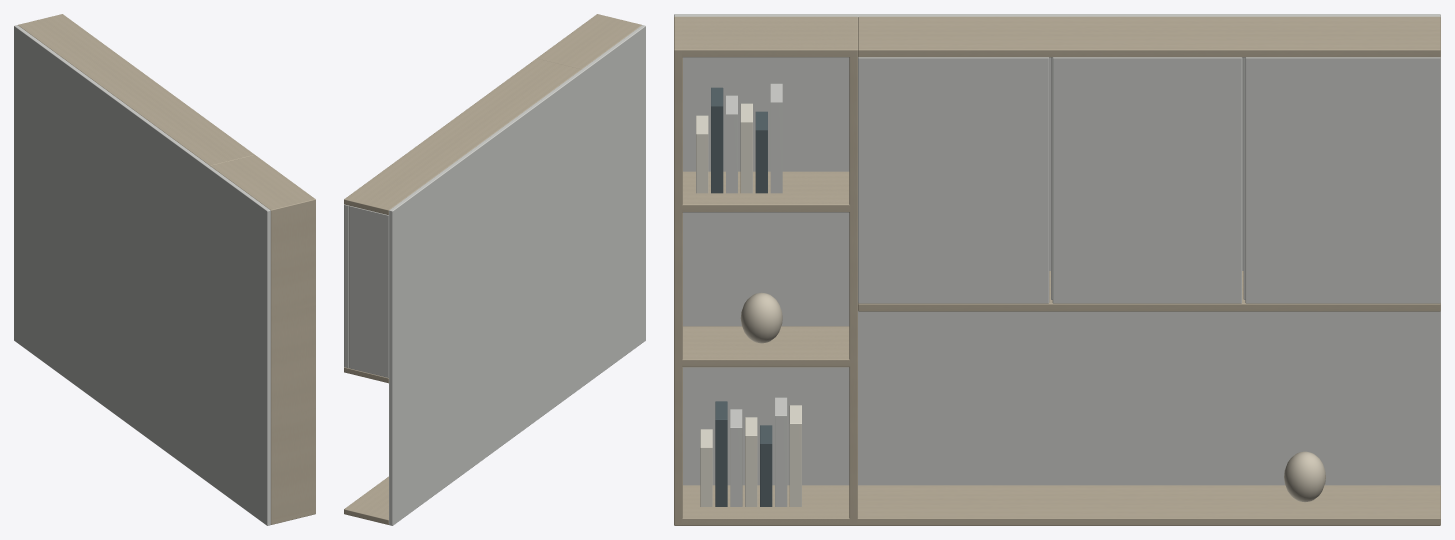
The model's file is head-enclosed.glb.
3 renders of one model, left to right at view 1: azimuth 30°, elevation 25°; view 2: azimuth 150°, elevation 25°; view 3: azimuth 270°, elevation 25°, orthographic. The views are drawn at different scales.
Visible parts, largest first — view 1: Cabinet wall backing, Open display side, Upper cupboard roof, Open display niche shelf.003; view 2: Cabinet wall backing, Upper cupboard roof, Upper cabinet side.003, Open display niche shelf.003, Lower continuous display ledge, Flat handleless door.002; view 3: Cabinet wall backing, Flat handleless door.002, Flat handleless door, Flat handleless door.001, Lower continuous display ledge, Upper cupboard roof, Open display niche shelf.003, Open display niche shelf.001, Open display niche shelf.002, Upper cupboard base, Open display niche shelf, Open display side.001 (+16 smaller).
Part boxes in pixels (left/top/right/bottom): Cabinet wall backing: left=14, top=25, right=270, bottom=525; Open display side: left=268, top=197, right=315, bottom=524; Upper cupboard roof: left=18, top=14, right=254, bottom=165; Open display niche shelf.003: left=211, top=155, right=315, bottom=214; Cabinet wall backing: left=389, top=25, right=645, bottom=525; Upper cupboard roof: left=344, top=58, right=581, bottom=215; Upper cabinet side.003: left=349, top=205, right=388, bottom=377; Open display niche shelf.003: left=537, top=14, right=640, bottom=67; Lower continuous display ledge: left=344, top=476, right=388, bottom=524; Flat handleless door.002: left=344, top=204, right=348, bottom=368; Cabinet wall backing: left=674, top=14, right=1440, bottom=485; Flat handleless door.002: left=1245, top=57, right=1440, bottom=303; Flat handleless door: left=858, top=57, right=1049, bottom=303; Flat handleless door.001: left=1052, top=57, right=1241, bottom=303; Lower continuous display ledge: left=674, top=485, right=1440, bottom=525; Upper cupboard roof: left=858, top=16, right=1440, bottom=57; Open display niche shelf.003: left=674, top=16, right=857, bottom=57; Open display niche shelf.001: left=674, top=326, right=850, bottom=367; Open display niche shelf.002: left=674, top=171, right=856, bottom=212; Upper cupboard base: left=858, top=271, right=1440, bottom=311; Open display niche shelf: left=675, top=485, right=855, bottom=525; Open display side.001: left=849, top=16, right=857, bottom=525.
Size of the model in its own units: 0.195 by 1.2 by 1.75.
Materials: 6 (1 with a texture image).
